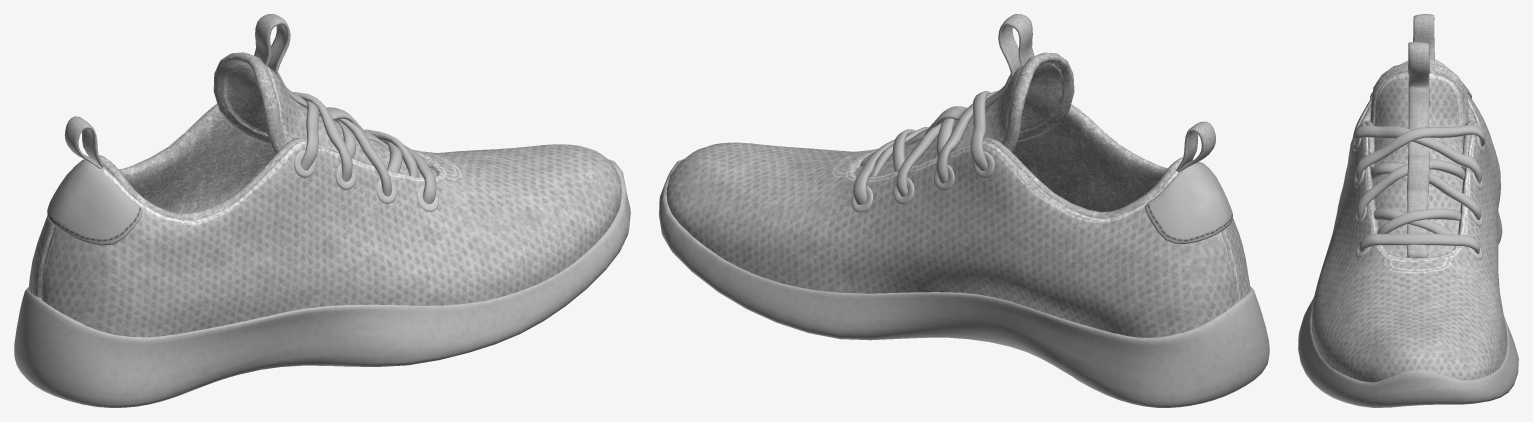
Rendered from shoe.glb.
3 views of the same model, side by side, from view 1: azimuth 30°, elevation 25°; view 2: azimuth 150°, elevation 25°; view 3: azimuth 270°, elevation 25° (orthographic). The views are drawn at different scales.
Visible parts, largest first — view 1: shoe; view 2: shoe; view 3: shoe.
Boxes of the visible parts, box(x1,y1,x2,y2) form: shoe: box(14, 14, 630, 407); shoe: box(659, 14, 1269, 407); shoe: box(1298, 14, 1518, 407).
Size of the model in its own units: 2.84 by 1.46 by 1.1.
Materials: 1 (1 with a texture image).
